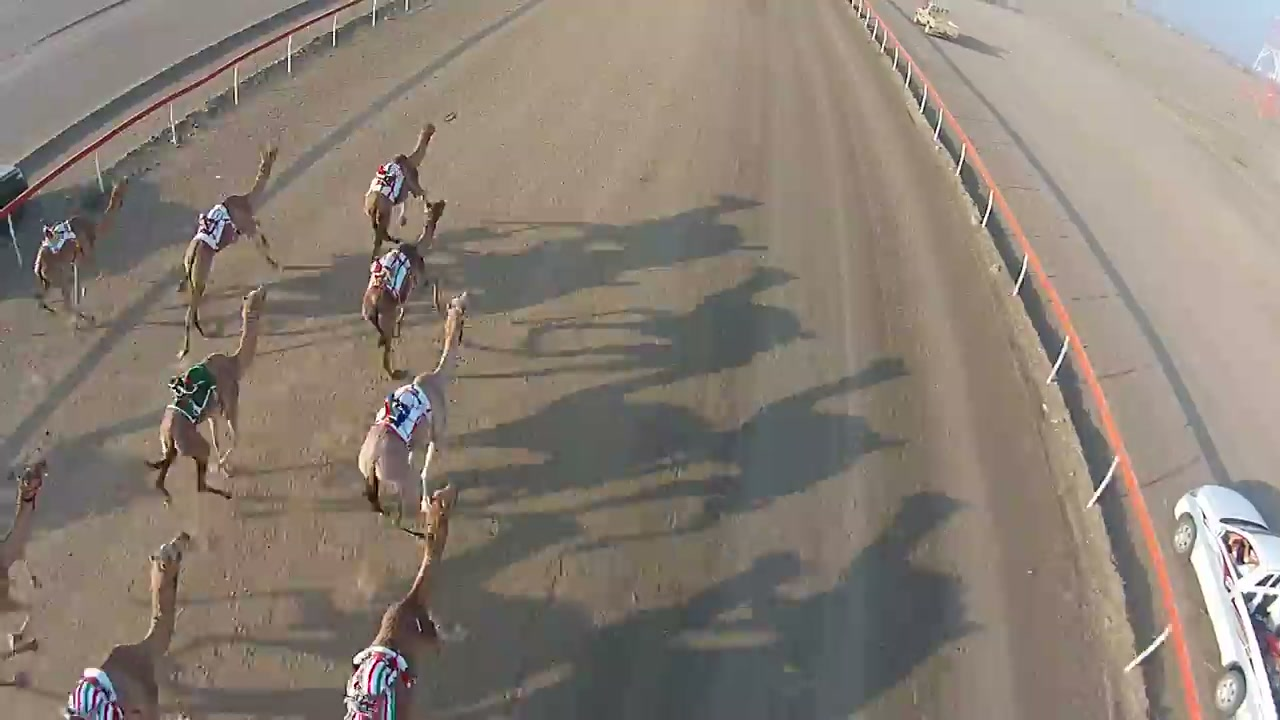animal_footprint: (200, 380, 364, 700)
